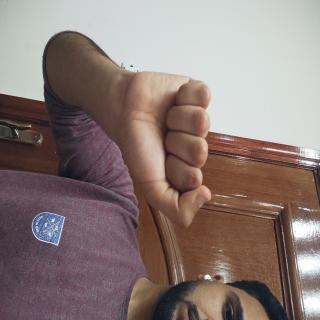SAD: (46, 138, 174, 273)
